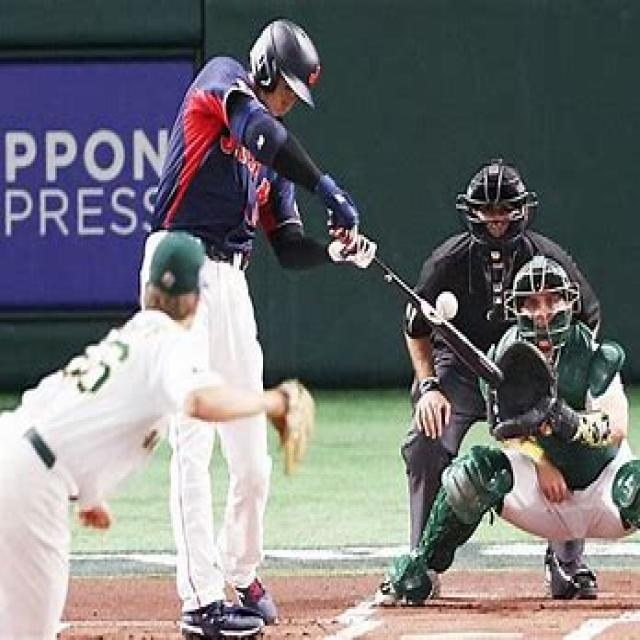ball: (434, 289, 460, 320)
